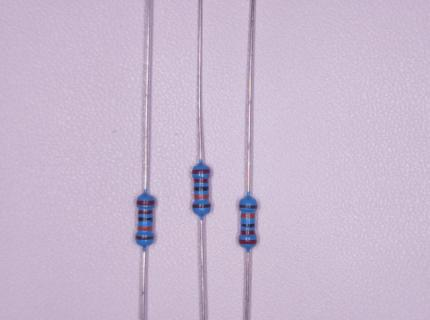Black band: (194, 186, 210, 191), (138, 217, 153, 222), (241, 223, 255, 228)
Brown band: (135, 236, 154, 240), (193, 205, 211, 208), (240, 205, 257, 208)
Orange band: (138, 226, 153, 231), (195, 195, 209, 200), (241, 213, 255, 218)
Red band: (240, 239, 256, 244), (137, 201, 155, 205), (192, 170, 210, 174), (241, 230, 255, 235), (139, 210, 153, 214), (194, 179, 208, 183)
